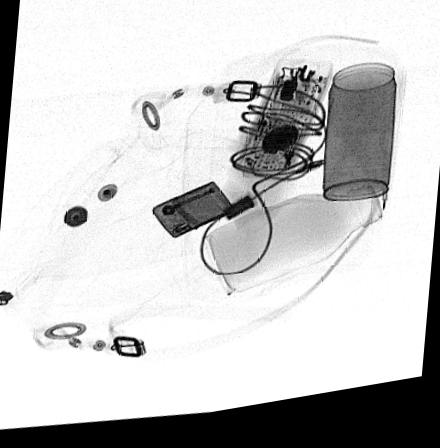Lighter: (150, 187, 234, 243)
